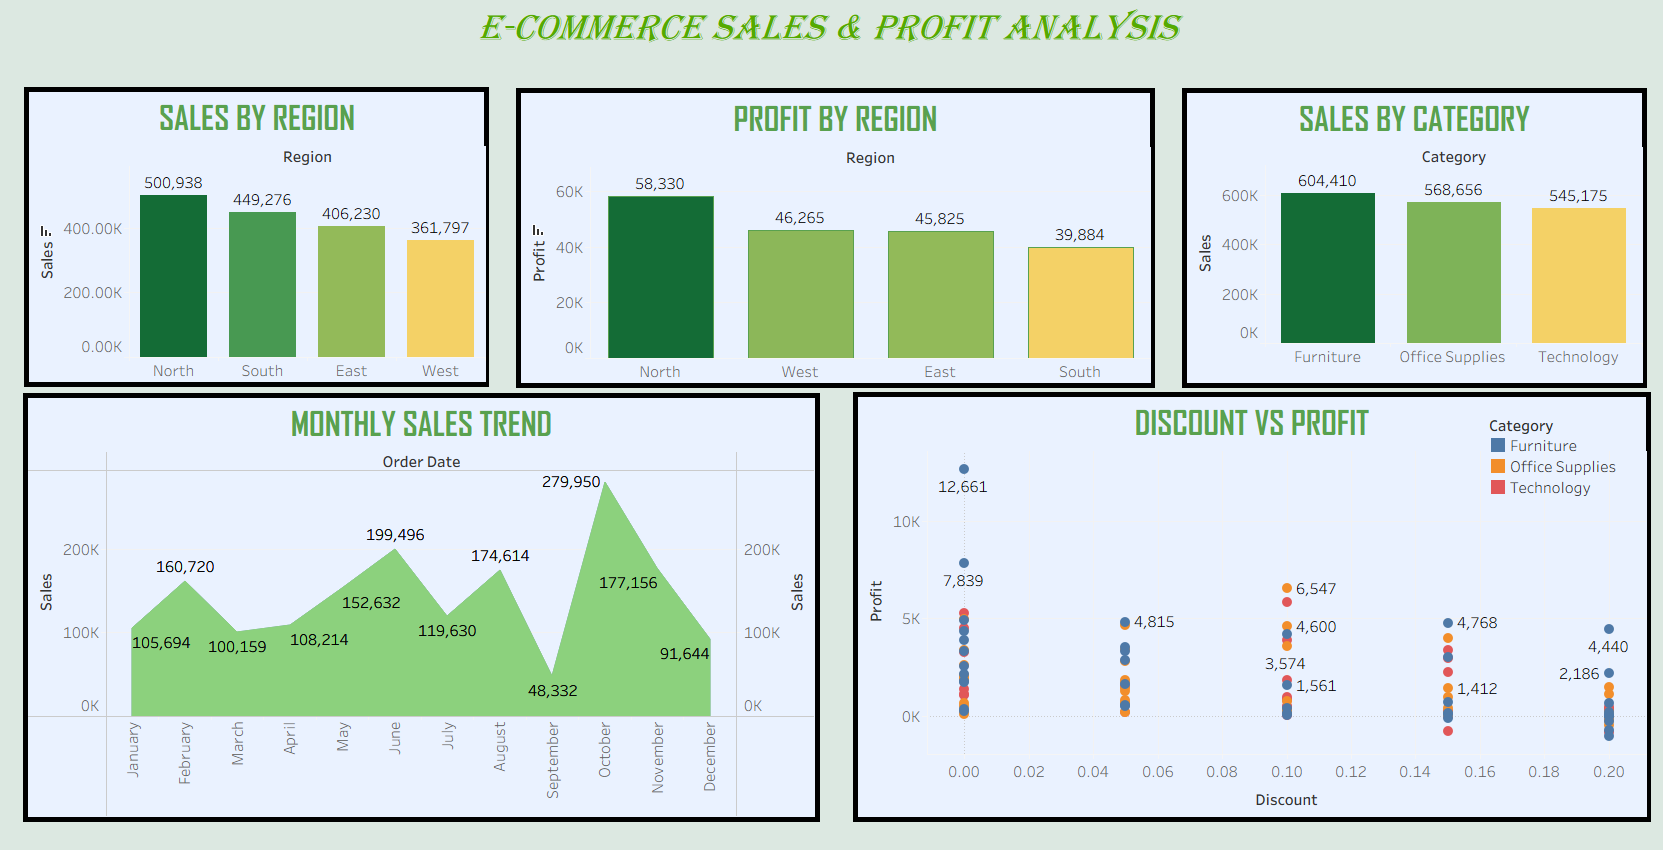

What the dashboard file says about the page in this screenshot:
{"tool":"tableau","page":{"name":"Dashboard 1","canvas":[1000,1000],"units":"permille","ordinal":0},"visuals":[{"type":"title","box":[4.8,9.4,990.3,47.1]},{"type":"worksheet","title":"SALES BY REGION","mark":"Automatic","rows":["Sales"],"cols":["Region"],"box":[14.3,102.4,280,352.9]},{"type":"worksheet","title":"PROFIT BY REGION","mark":"Automatic","rows":["Profit"],"cols":["Region"],"box":[310.5,103.5,383.9,352.9]},{"type":"worksheet","title":"SALES BY CATEGORY","mark":"Bar","rows":["Sales"],"cols":["Category"],"box":[710.8,103.5,279.6,352.9]},{"type":"worksheet","title":"Discount vs Profit","mark":"Circle","rows":["Profit"],"cols":["Discount"],"box":[512.8,461.2,479.8,505.9]},{"type":"worksheet","title":"MONTHLY SALES TREND","mark":"Area","rows":["Sales","Sales"],"cols":["Order_Date"],"box":[13.7,462.4,479.2,504.7]},{"type":"legend","title":"Discount vs Profit","param":"[federated.1uyel8t0492ur2101wi8m06vn6gl].[none:Category:nk]","box":[894.8,485.9,87.1,100]}]}

Visuals, with their boxes on the dashboard's canvas, which has no fixed pixel size, in thousandths of its width and height (x1, y1, x2, y2). These are canvas units, not pixel positions in the 1663x850 screenshot, which may show the page scaled, cropped or inside an application window:
title: {"x1": 5, "y1": 9, "x2": 995, "y2": 56}
"SALES BY REGION" worksheet: {"x1": 14, "y1": 102, "x2": 294, "y2": 455}
"PROFIT BY REGION" worksheet: {"x1": 310, "y1": 104, "x2": 694, "y2": 456}
"SALES BY CATEGORY" worksheet (Bar marks): {"x1": 711, "y1": 104, "x2": 990, "y2": 456}
"Discount vs Profit" worksheet (Circle marks): {"x1": 513, "y1": 461, "x2": 993, "y2": 967}
"MONTHLY SALES TREND" worksheet (Area marks): {"x1": 14, "y1": 462, "x2": 493, "y2": 967}
"Discount vs Profit" legend: {"x1": 895, "y1": 486, "x2": 982, "y2": 586}
